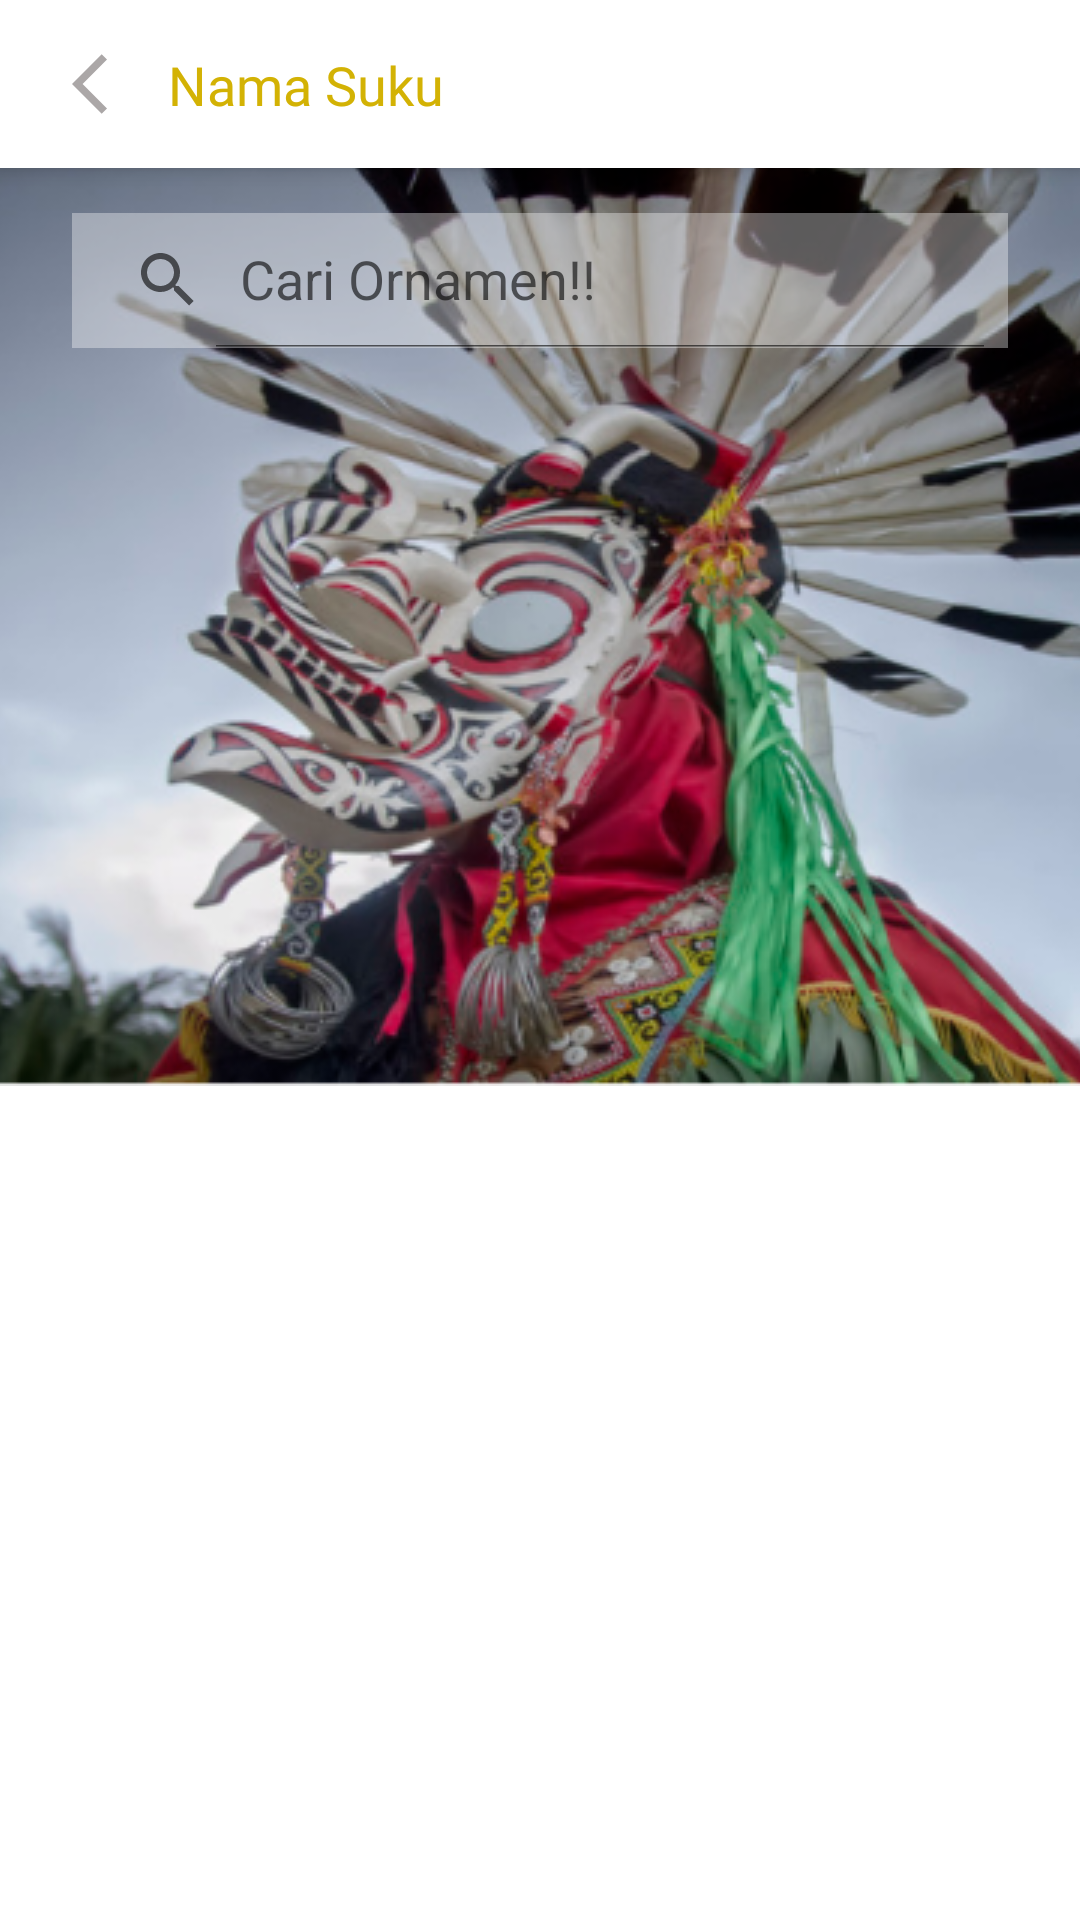

Icons on this 1080px x 1920px Android screen, each with the point to tap as point (x, y):
arrow back: point (89, 84)
